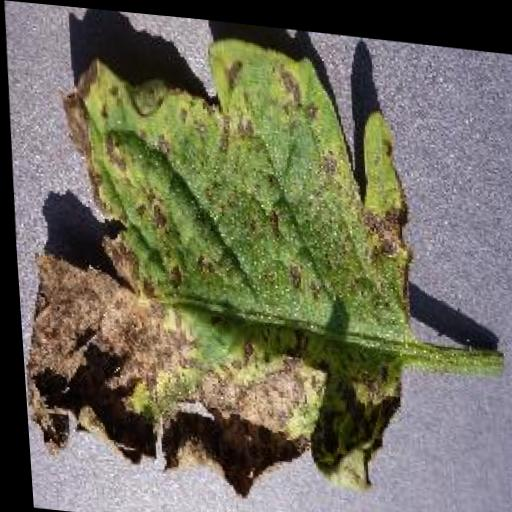Septoria: (1, 11, 424, 512)
